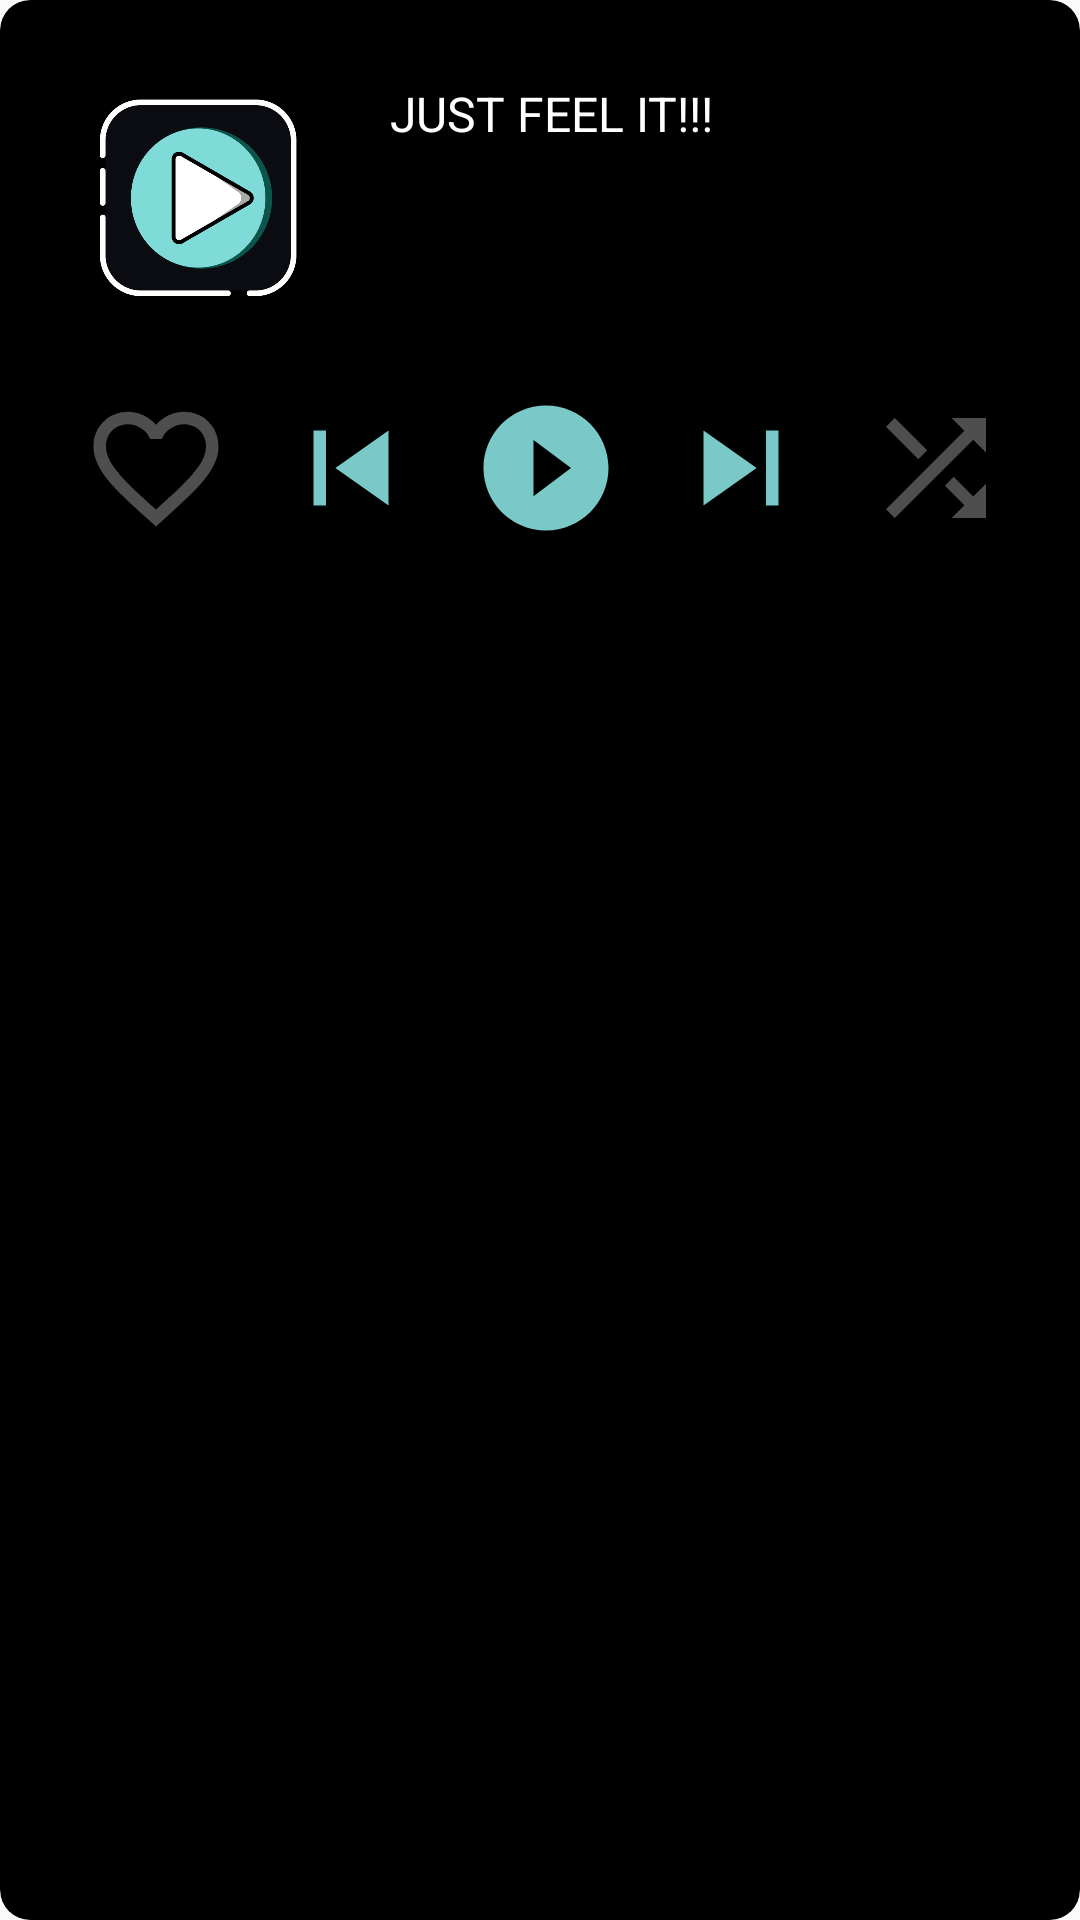

Where to tap for icons on this 1080w x 1920h app screen, as (x,y):
favorite off: (156,469)
play: (546,468)
shuffle off: (936,468)
skip to next: (741,468)
skip to previous: (351,468)
